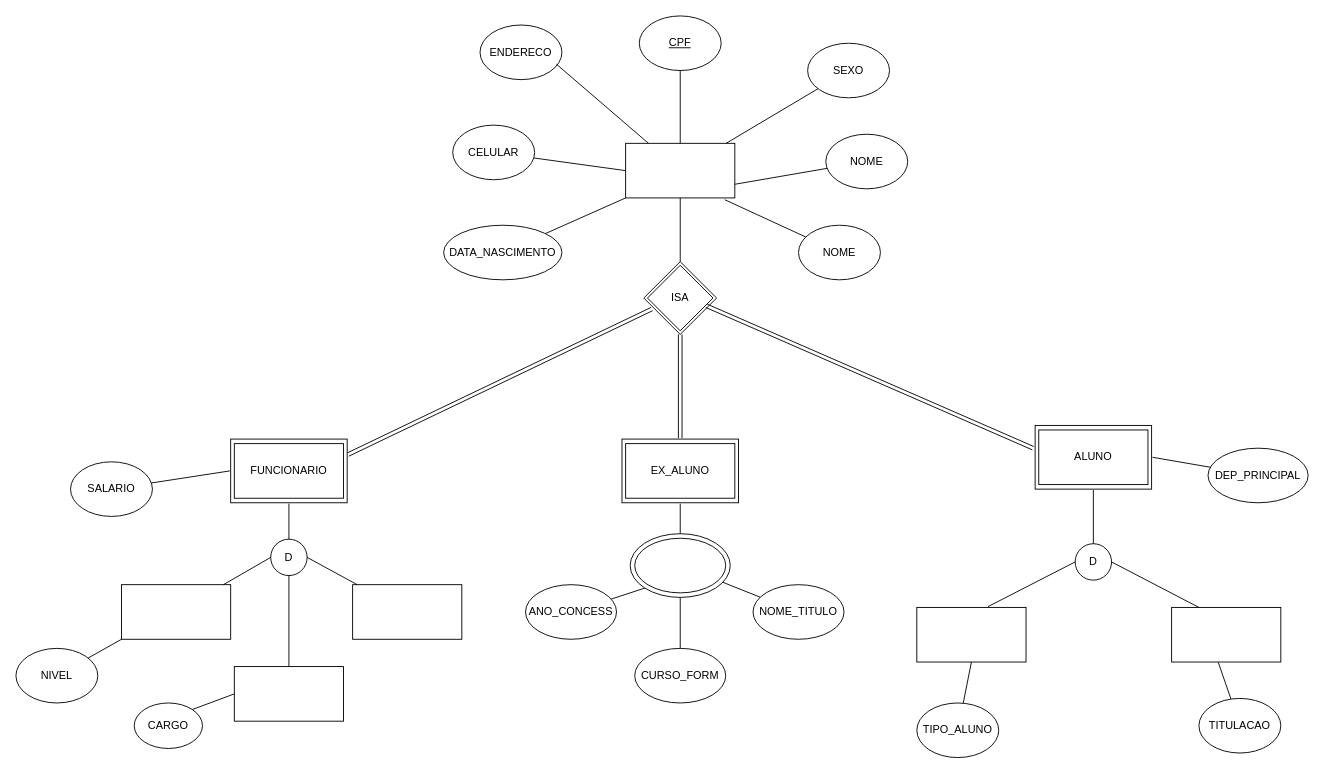
This 1324x774 diagram has some shape labels left out. Here are the shapes that lost their labels. From the top down, the centre of each, then its label:
At (x=680, y=170): "PESSOA".
At (x=680, y=565): "TITULOS".
At (x=176, y=611): "DOCENTE".
At (x=407, y=611): "ALUNO_COLAB".
At (x=971, y=634): "GRADUACAO".
At (x=1226, y=634): "POS_GRADUACAO".
At (x=288, y=693): "ADMINISTRATIVO".
